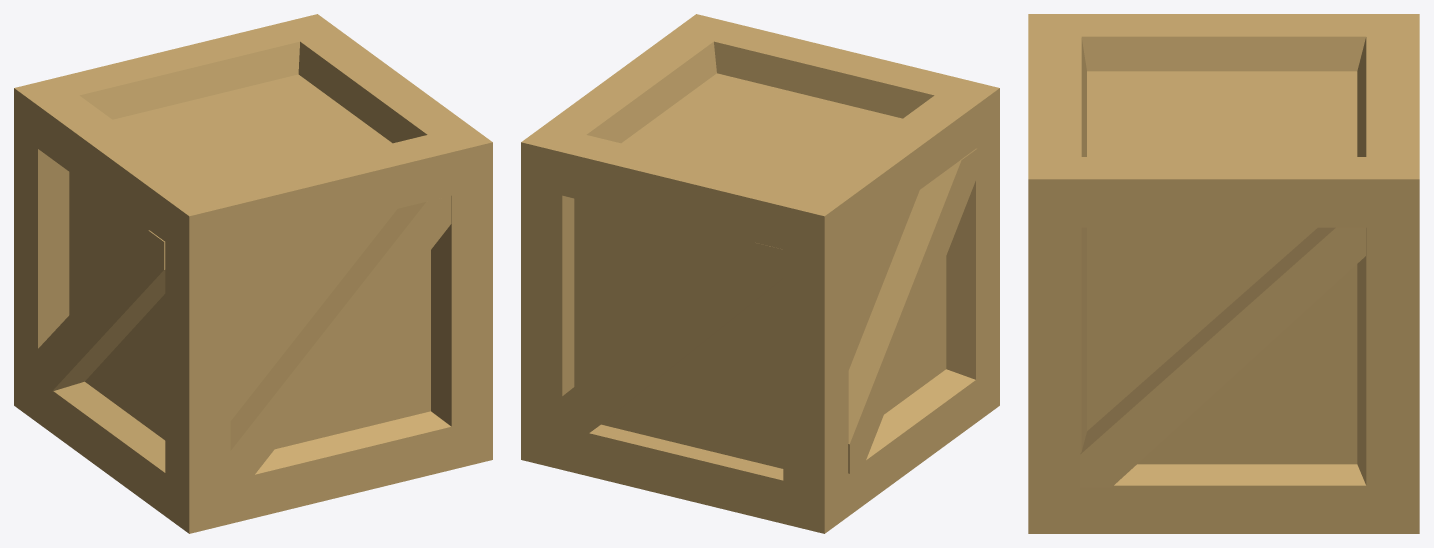
The model's file is Kiste.fbx.
3 views of the same model, side by side, from view 1: azimuth 30°, elevation 25°; view 2: azimuth 150°, elevation 25°; view 3: azimuth 270°, elevation 25° (orthographic). The views are drawn at different scales.
Parts seen in each view (by area): view 1: Cube.001; view 2: Cube.001; view 3: Cube.001.
Boxes of the visible parts, x1,y1,x2,y2 form: Cube.001: (14, 14, 492, 533); Cube.001: (521, 14, 999, 533); Cube.001: (1028, 14, 1419, 533).
Bounding box in the file's own units: 84.52 × 83.51 × 83.57.
